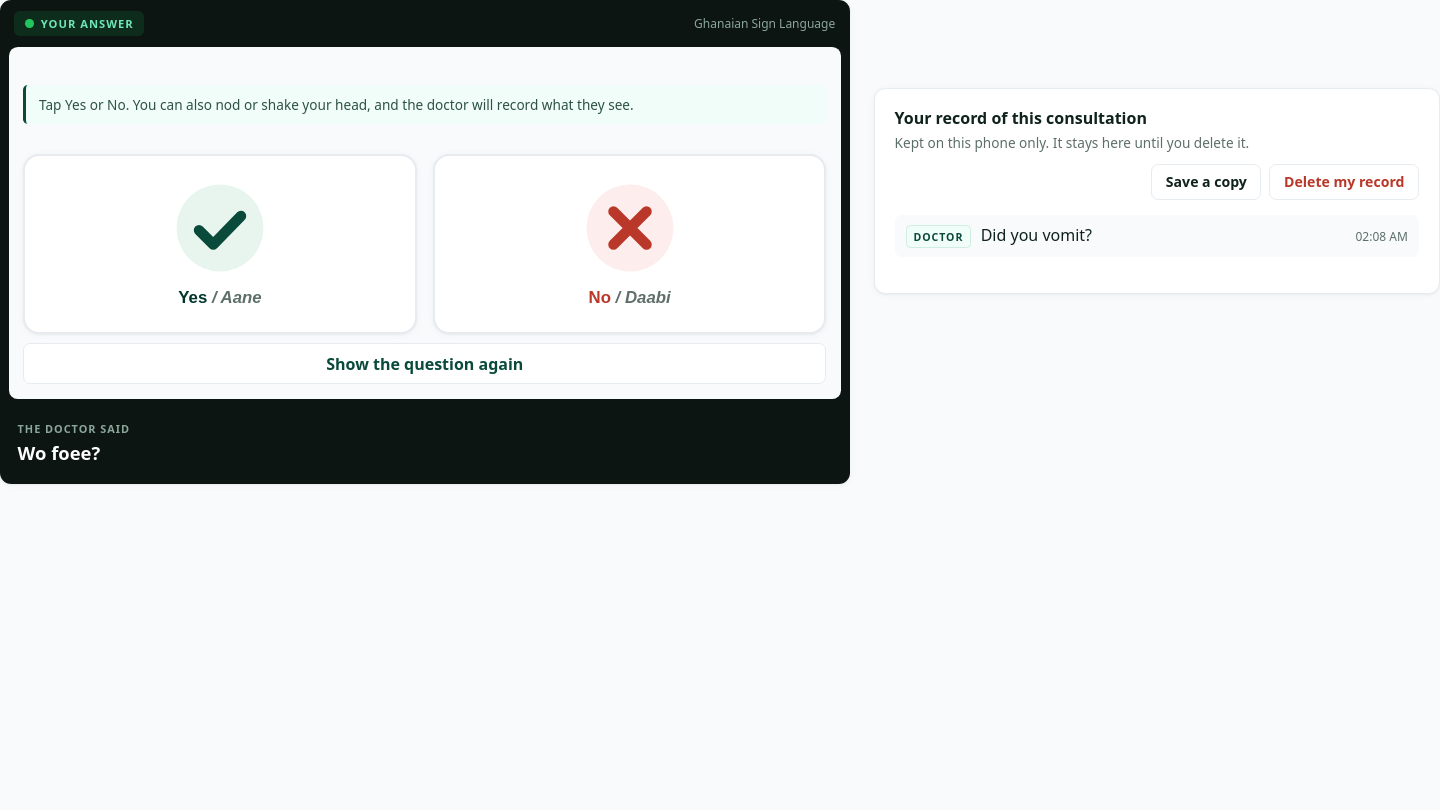
Test: a Yes/No question, answered here › does not leave a tap waiting when it was too late to count
The image size is (1440, 810).
Check: the element with test id "stage-answers" is shown, box [9,47,841,399]
Click the button with test id "choice-yes" at (220, 244), box [23,154,417,334]
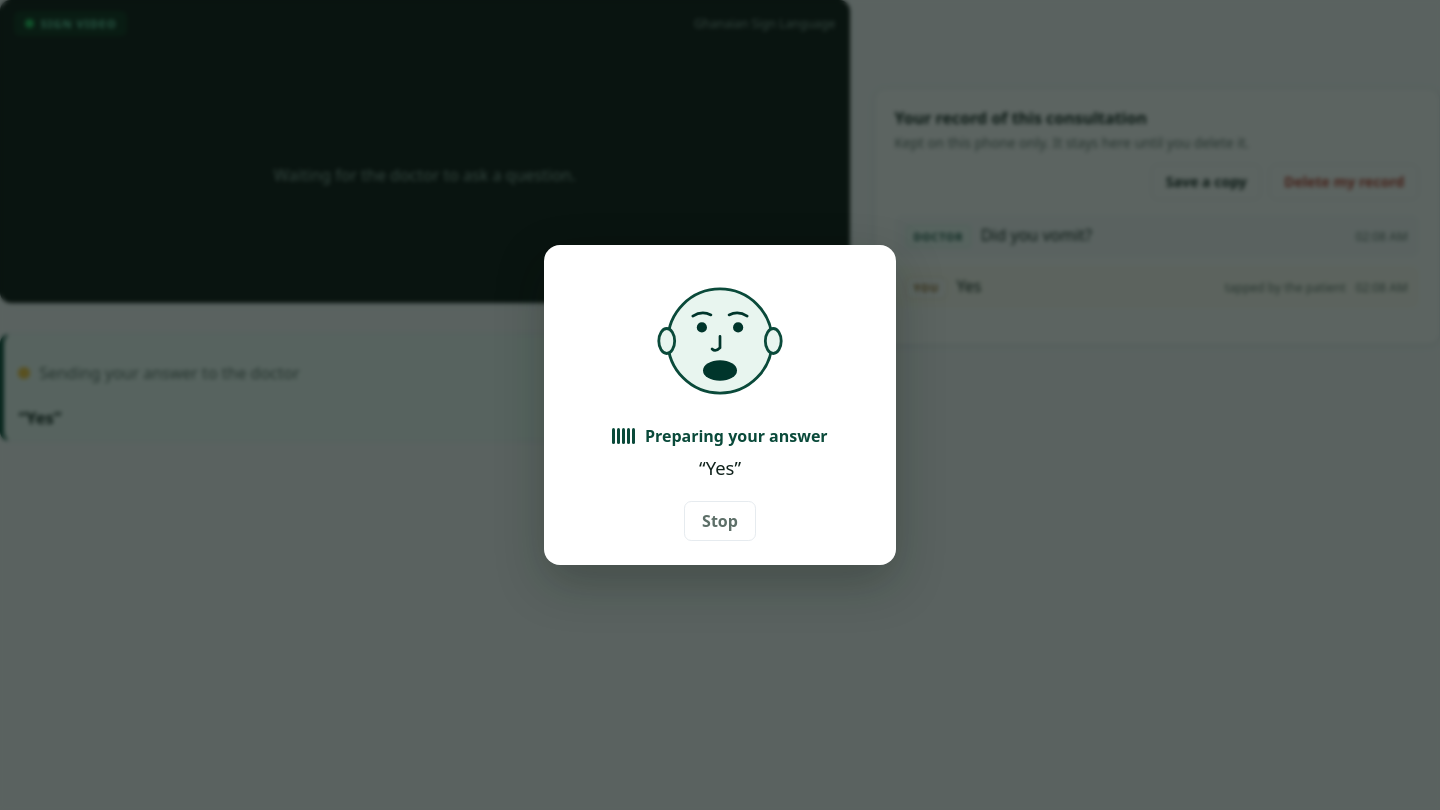
Check: the element with test id "speaking-overlay" is shown
